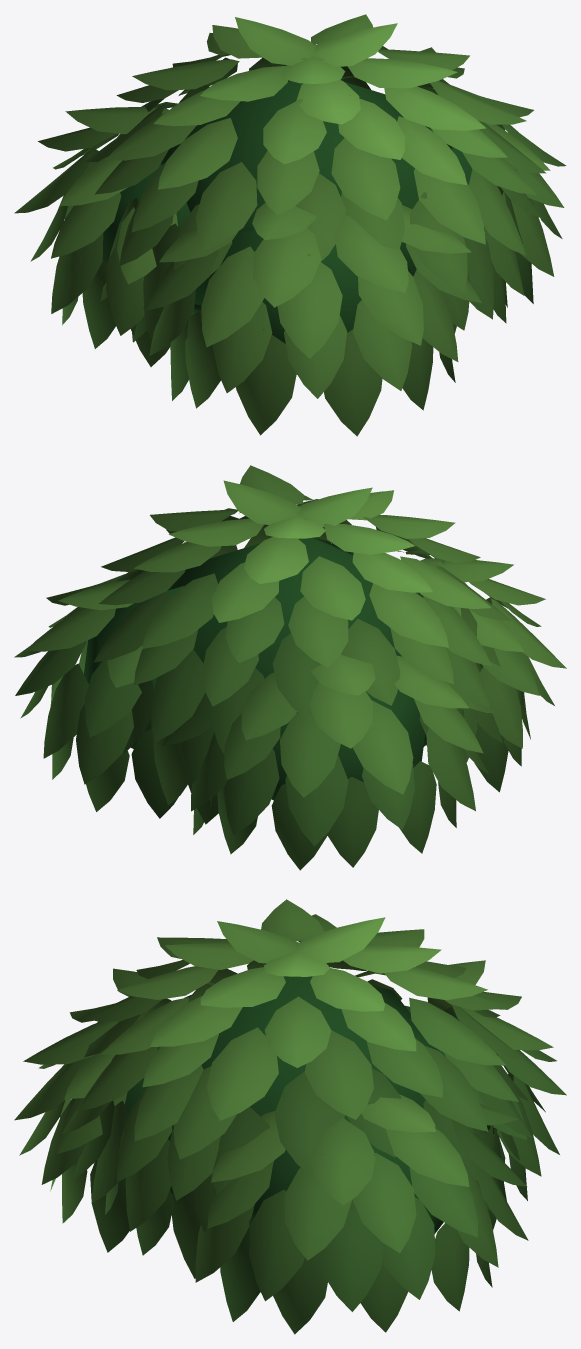
The model's file is bush_round_lod1.glb.
3 views of the same model, one above another, from view 1: azimuth 30°, elevation 25°; view 2: azimuth 150°, elevation 25°; view 3: azimuth 270°, elevation 25° (orthographic). The views are drawn at different scales.
Parts seen in each view (by area): view 1: bush_round.001; view 2: bush_round.001; view 3: bush_round.001.
Boxes of the visible parts, x1=… form: bush_round.001: x1=14, y1=14, x2=566, y2=436; bush_round.001: x1=14, y1=465, x2=566, y2=870; bush_round.001: x1=14, y1=899, x2=566, y2=1334.
Size of the model in its own units: 1.46 by 0.8596 by 1.4.
